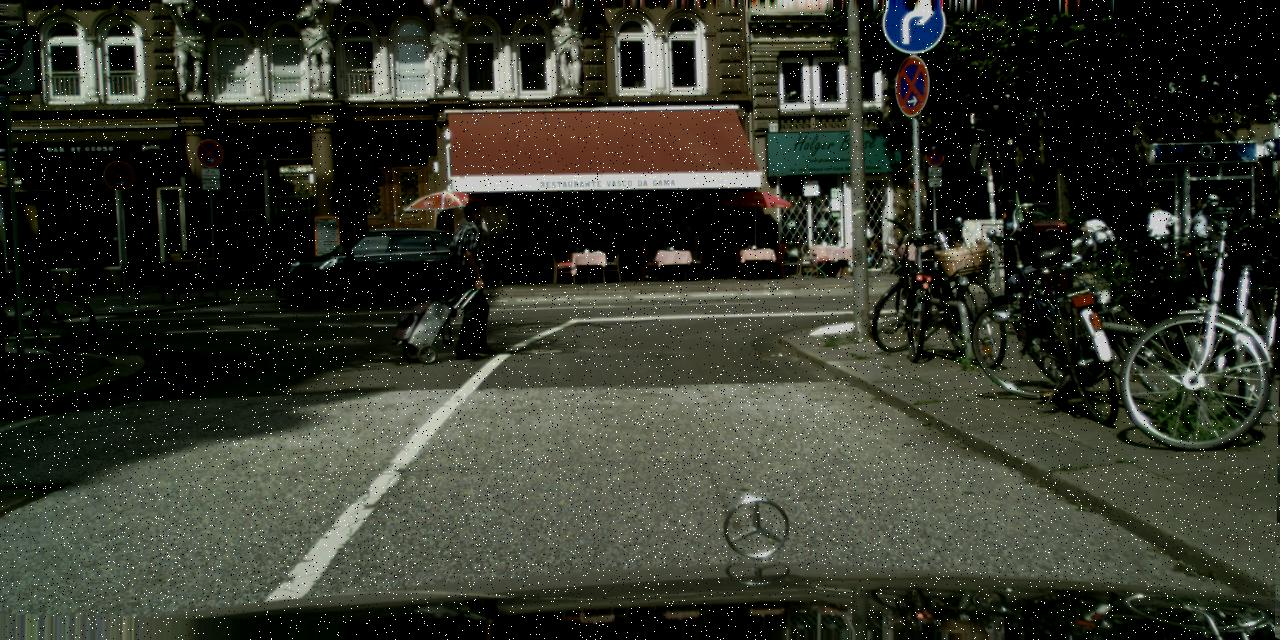ped: (445, 200, 507, 354), (1187, 197, 1219, 278), (1144, 203, 1175, 278), (1066, 181, 1091, 242), (1043, 188, 1064, 238)
